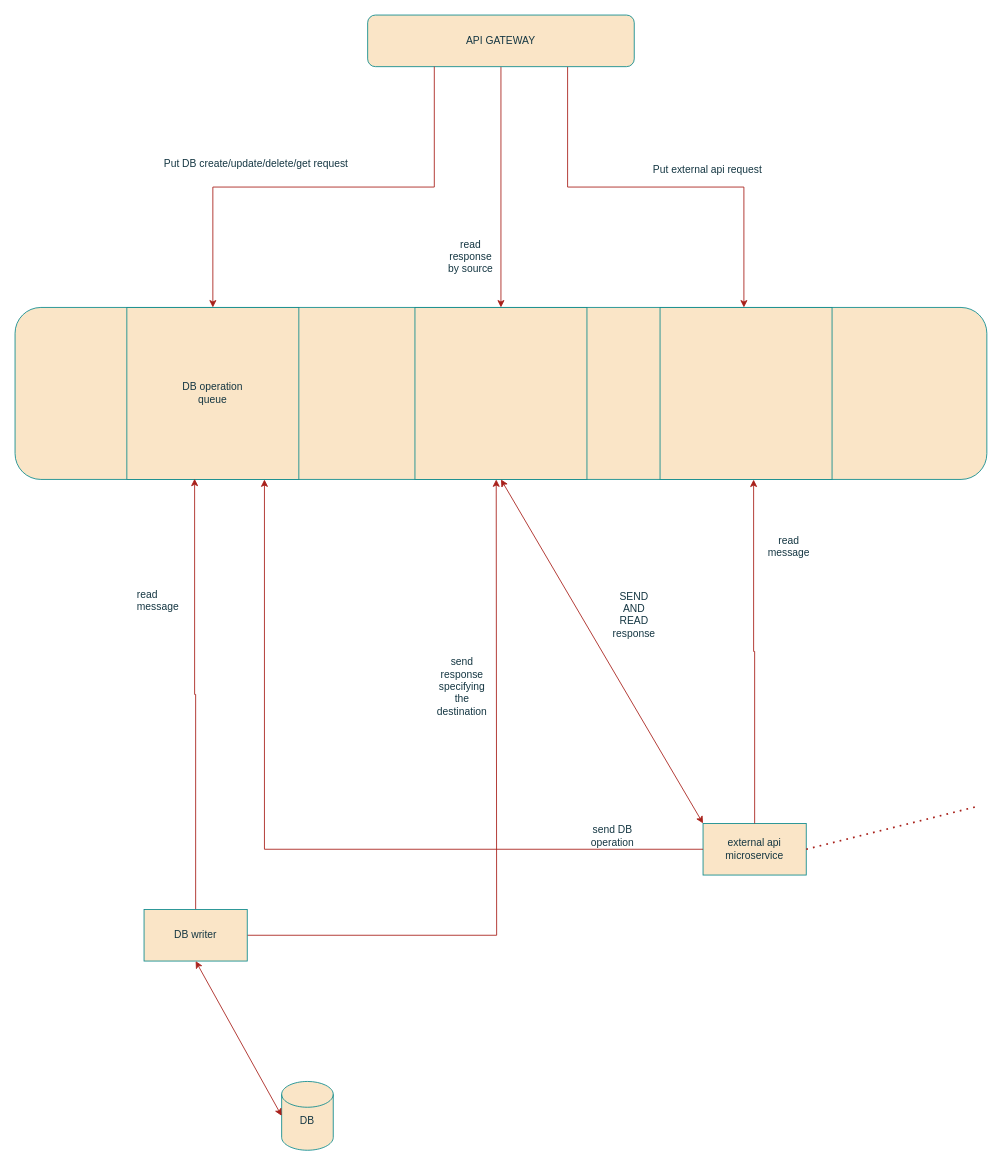
Image size: 1002x1165. Some labels were removed from this diagram. The shapes that lost their labels are listed below. From the top down, each one's centre as x and y in pixels, then its label:
pixel 500 393: api gateway responses
pixel 745 393: External api operations queue
